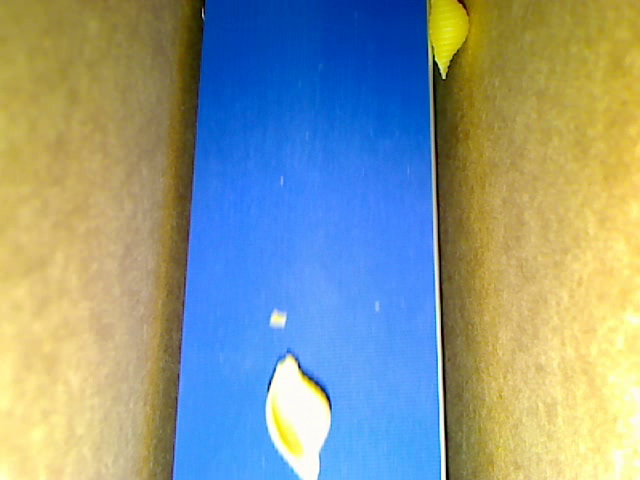shell: (265, 349, 331, 479), (427, 1, 470, 82)
